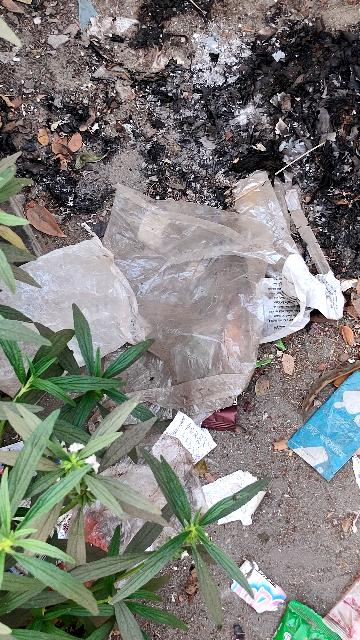polythene: (40, 186, 340, 439)
